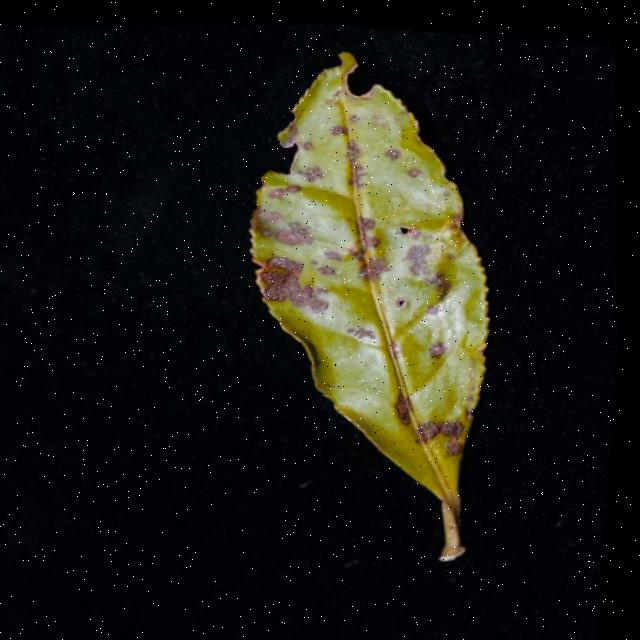Tea red rust: (225, 30, 517, 471)
